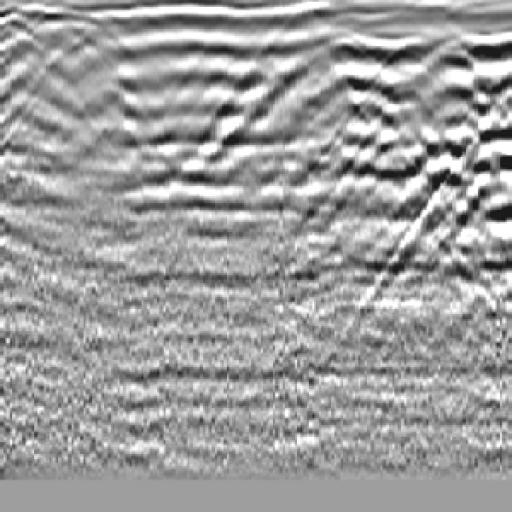non-metallic: (337, 41, 512, 270)
